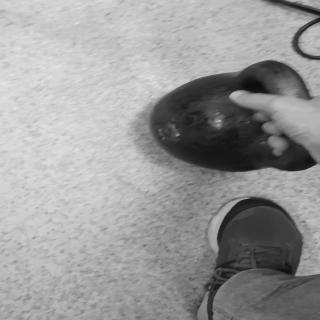kettlebell: (156, 59, 320, 176)
